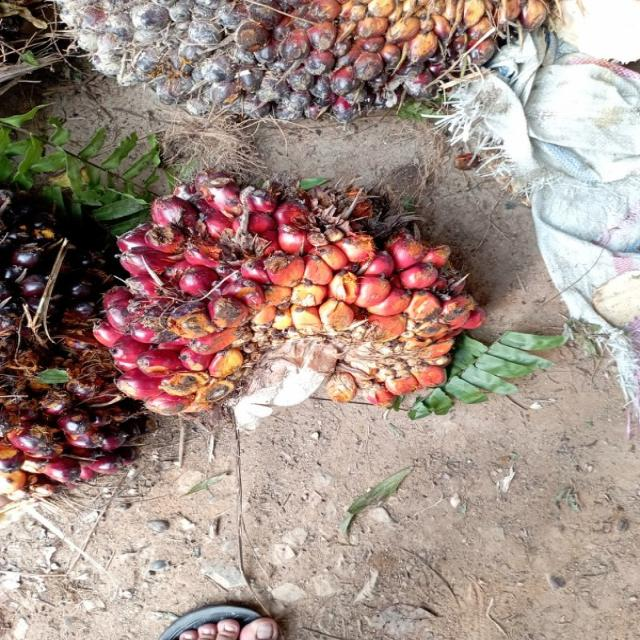fraksi 3: (55, 139, 532, 489)
